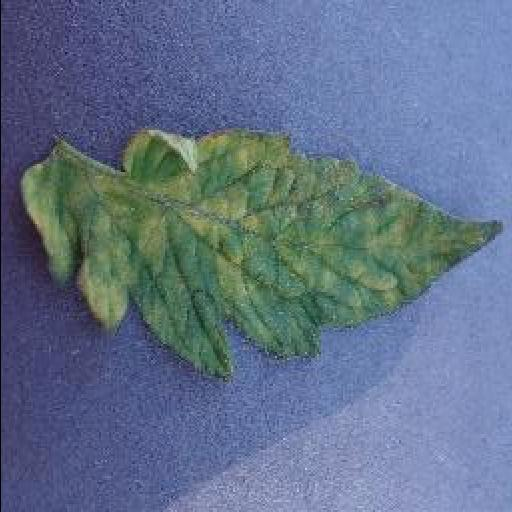disease_tomato: (18, 126, 506, 380)
